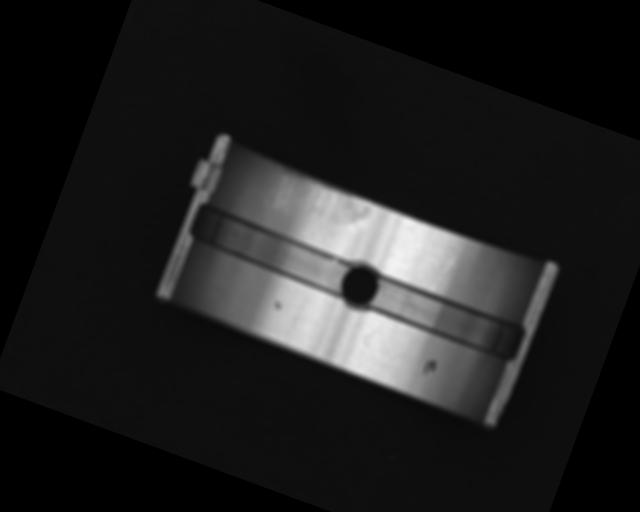blot: (420, 355, 438, 378)
bruise: (271, 299, 283, 311)
gap: (185, 200, 359, 299), (364, 270, 531, 365)
hole: (334, 254, 387, 315)
nick: (430, 251, 456, 296), (287, 302, 304, 336)
scratch: (263, 164, 377, 240)
